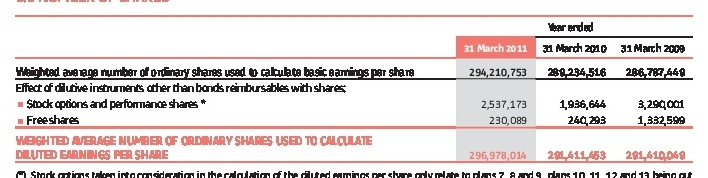table: (0, 0, 708, 178)
